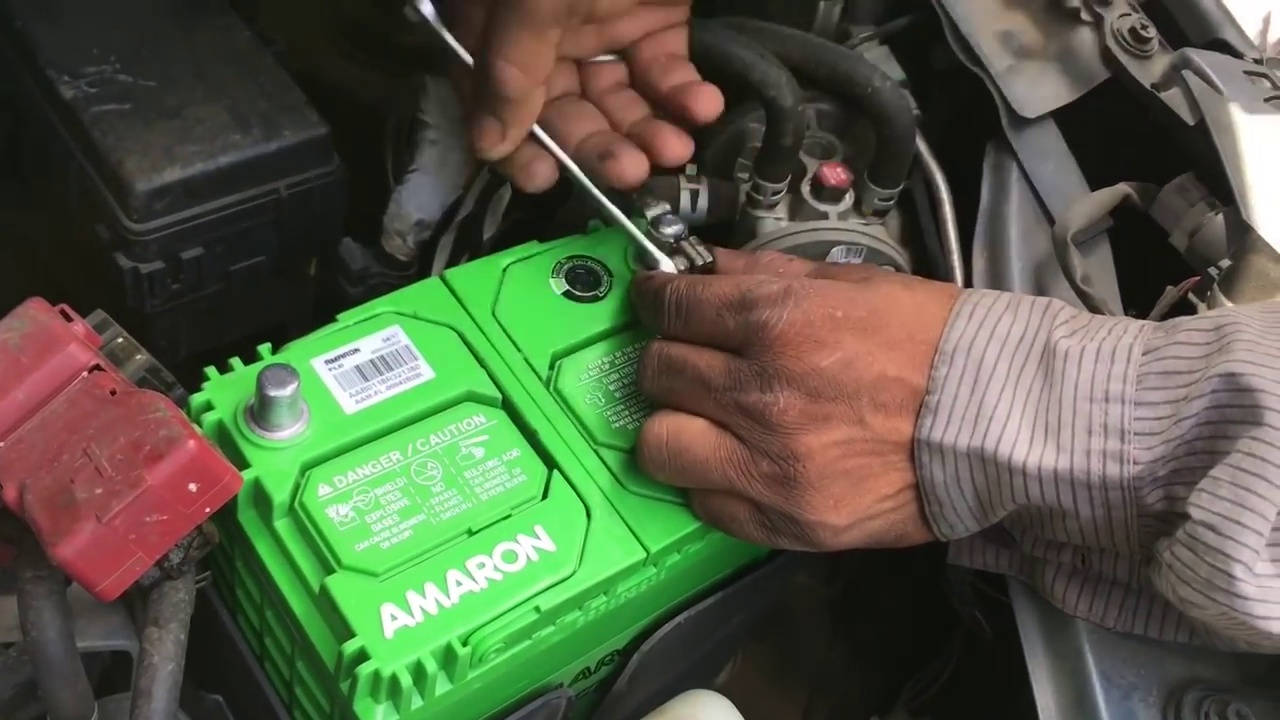battery: (190, 194, 816, 660)
neg_disconnected: (609, 162, 736, 308)
neg_touched: (529, 100, 825, 400)
pos_disconnected: (70, 321, 325, 498)
